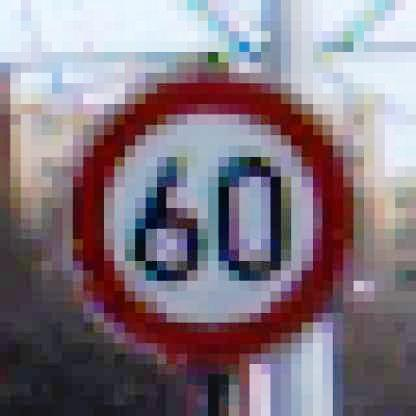Speed Limit -60-: (59, 71, 359, 363)
